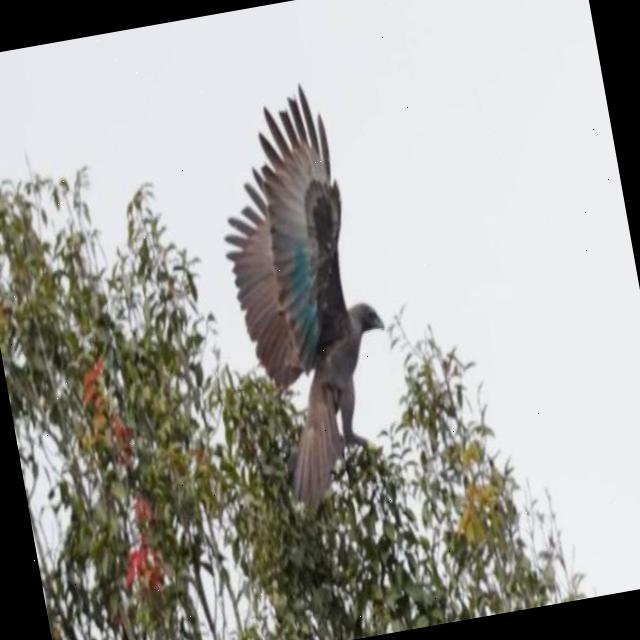Elang Jawa: (193, 71, 420, 524)
